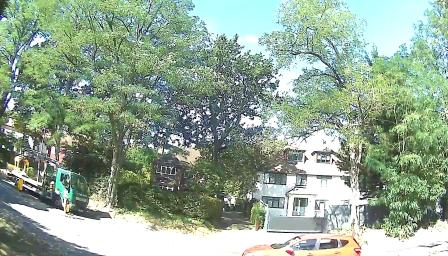Cars: (224, 222, 386, 256)
truck: (13, 141, 97, 212)
